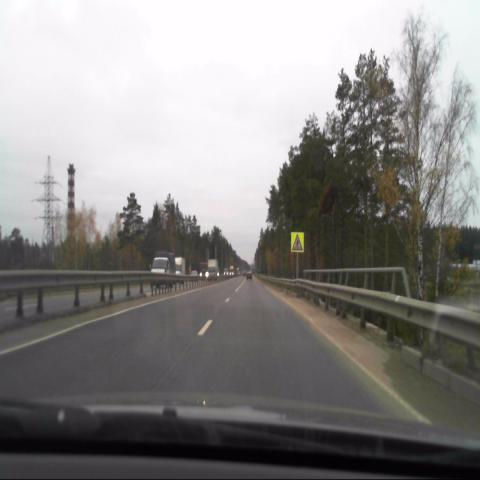1_22: (291, 232, 304, 253)
